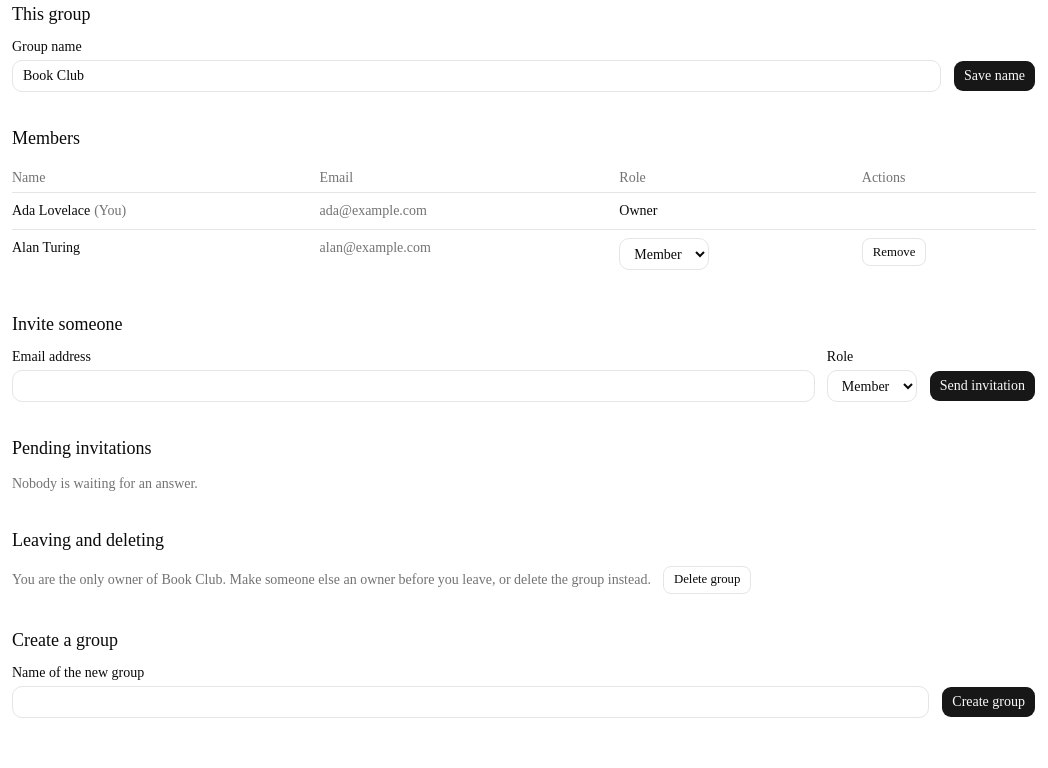
Test: GroupSettings › the personal group › when the server refuses a change to someone else's › explains a refused rename
Replace the text in the field labelled "Group name" with "Mine now": (476, 76) [12, 60, 941, 92]
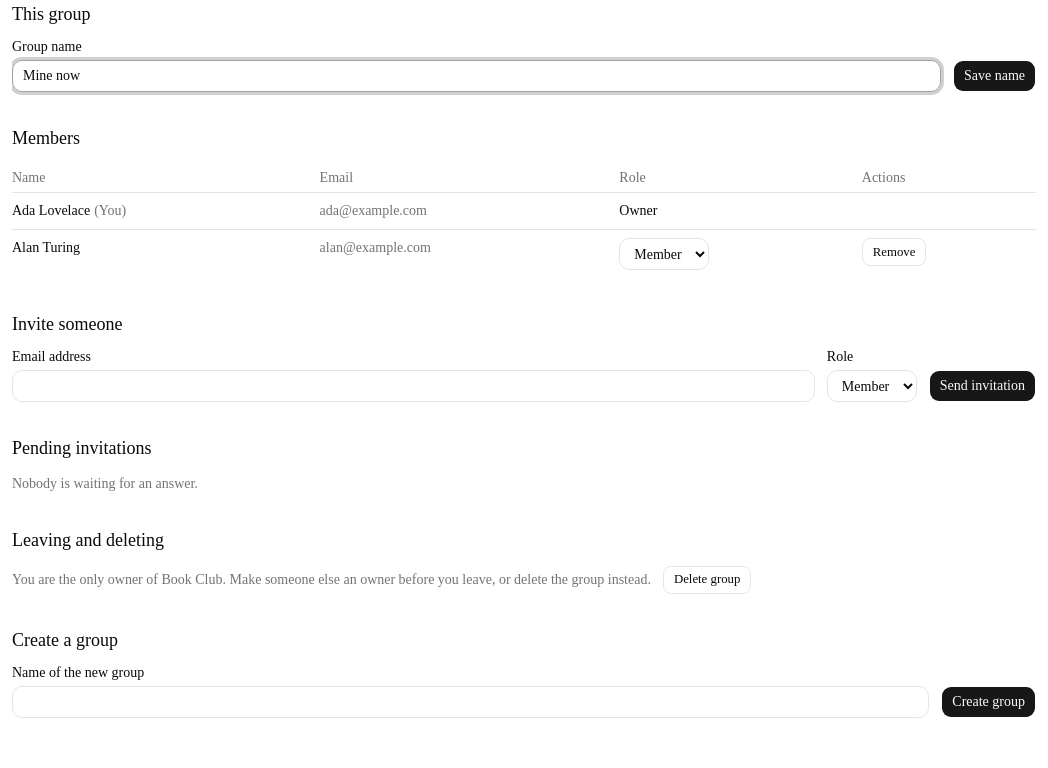
Click the button "Save name": click(994, 76) [953, 60, 1036, 92]
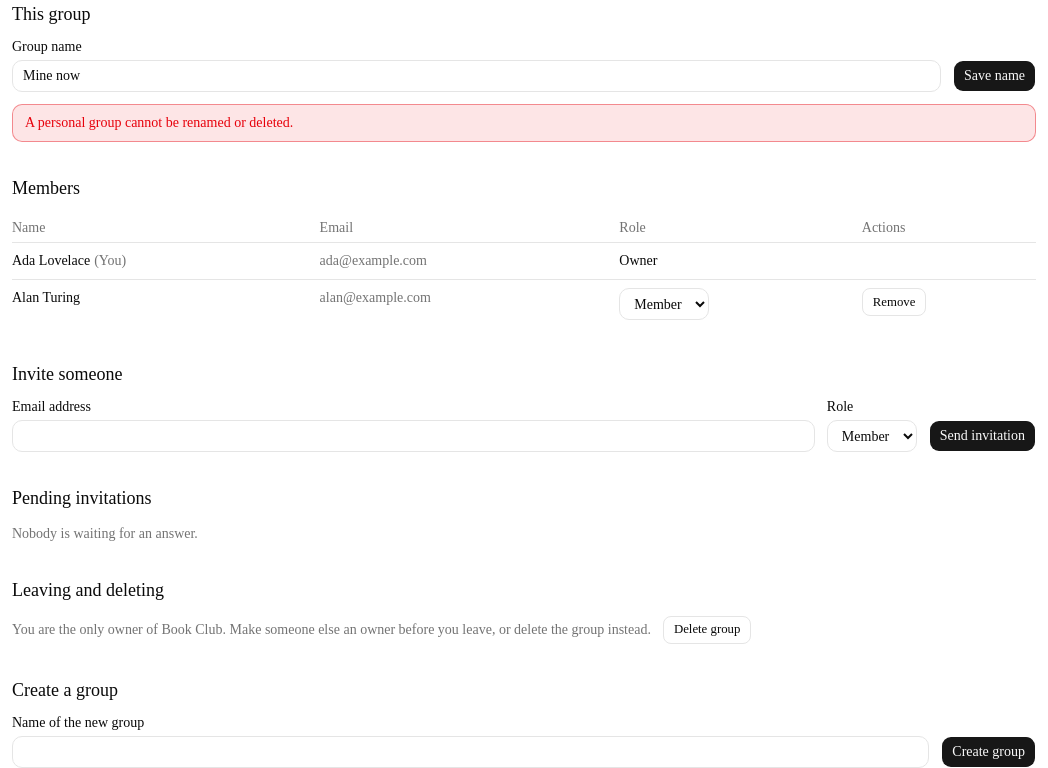
expect the message "A personal group cannot be renamed or deleted." is shown: met, box [12, 104, 1036, 142]
expect the message reads "A personal group cannot be renamed or deleted.": met, box [25, 115, 293, 130]
